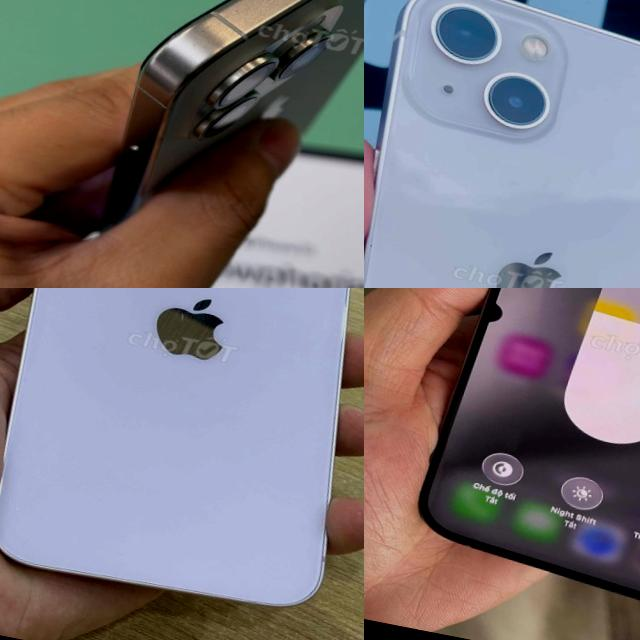gen_12_13: (364, 0, 640, 288)
gen_14: (0, 288, 364, 623)
gen_15: (395, 288, 640, 636), (61, 0, 364, 276)
